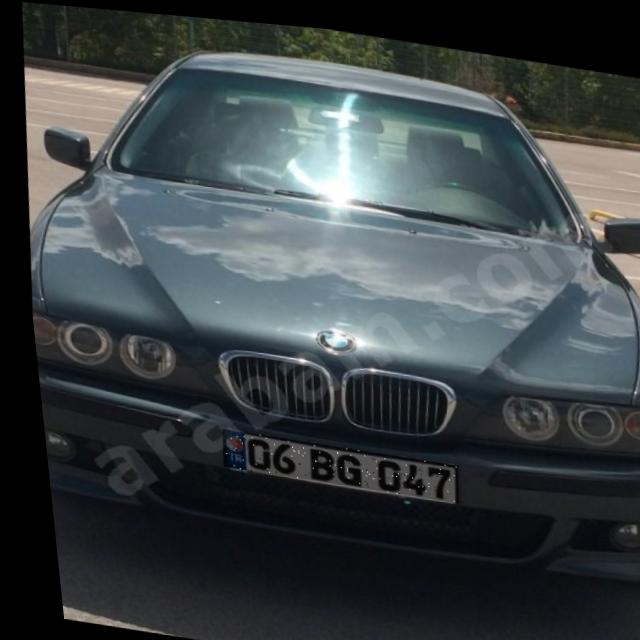license_plate: (210, 425, 451, 496)
